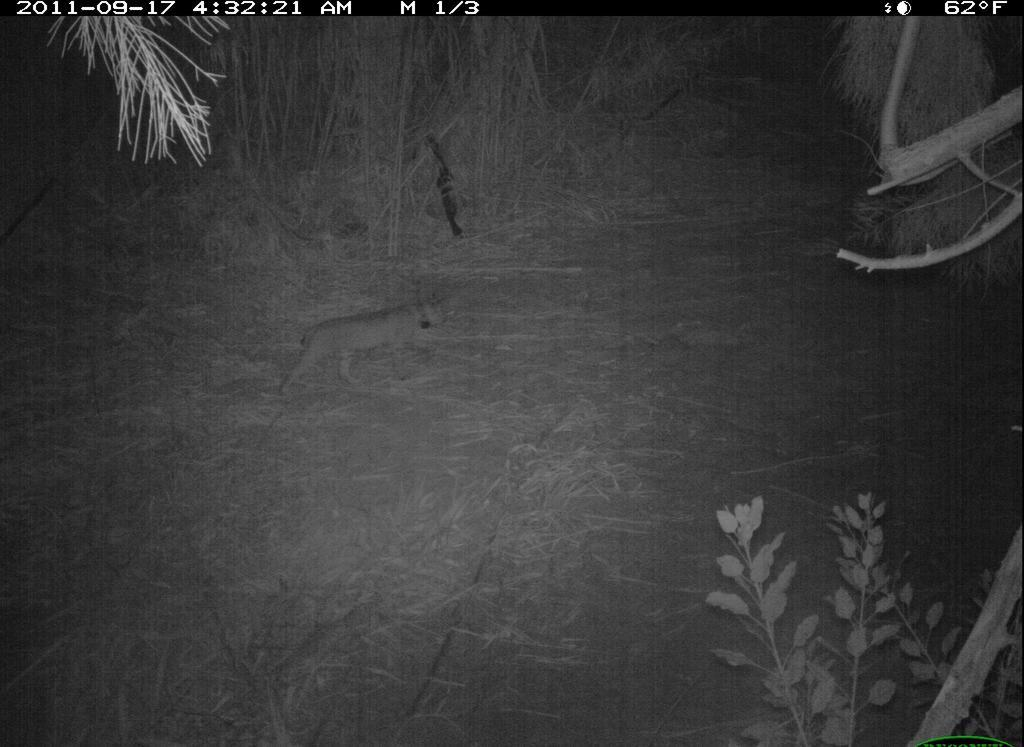bobcat: (271, 290, 452, 408)
